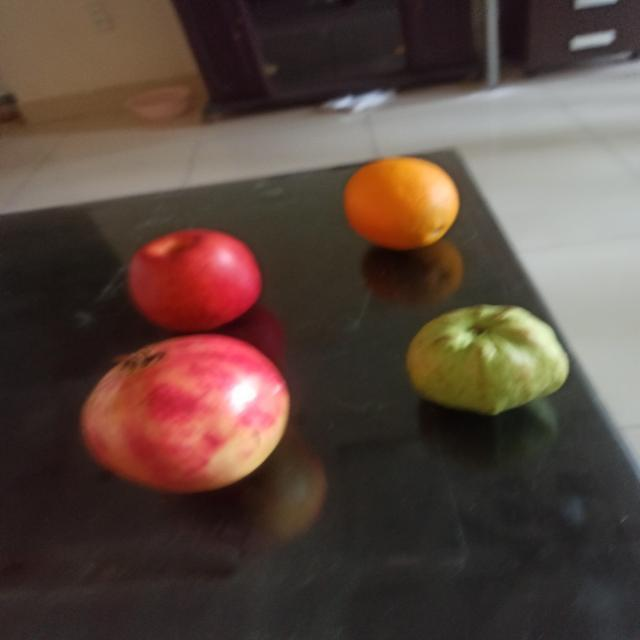apple: (126, 227, 262, 332)
